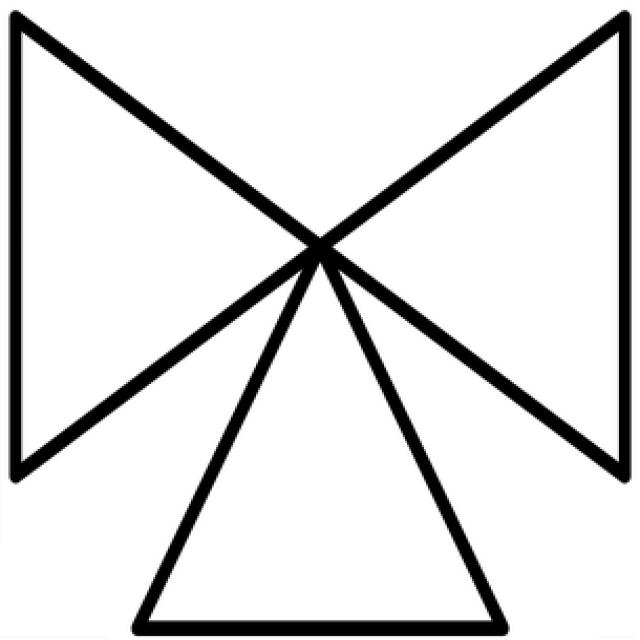3-way Valve: (10, 12, 627, 632)
